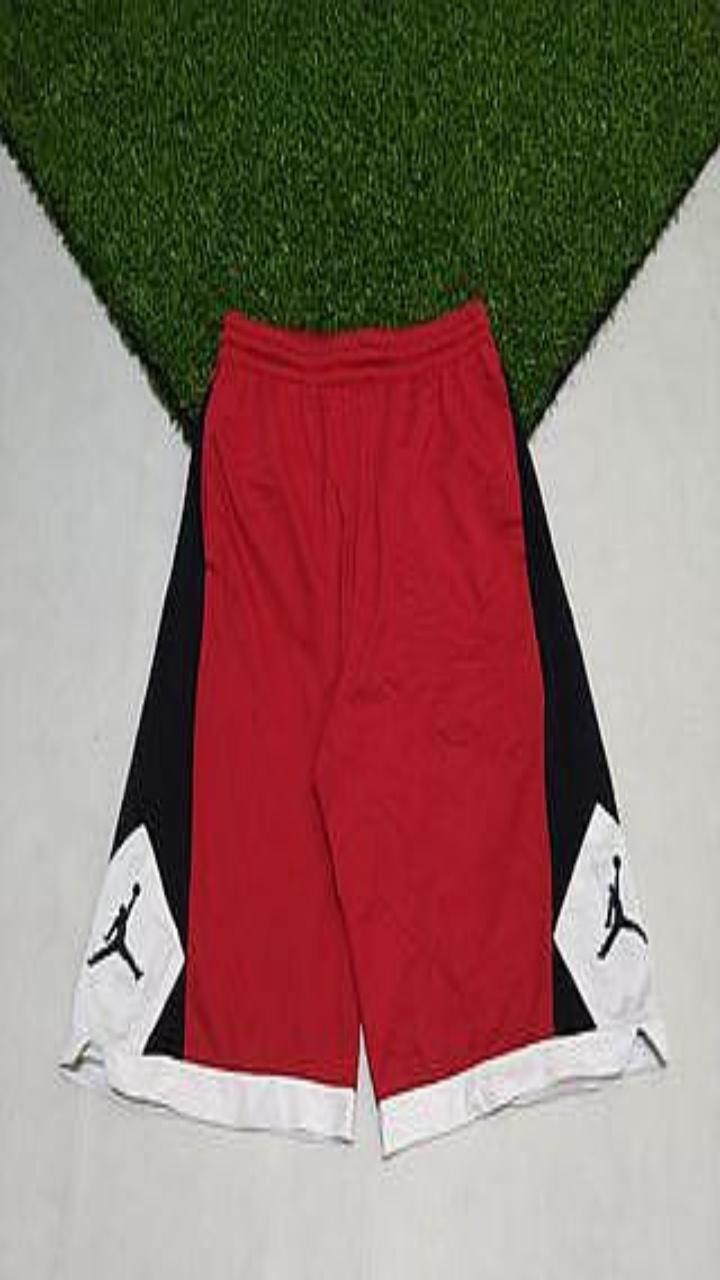Shorts: (61, 299, 665, 1154)
